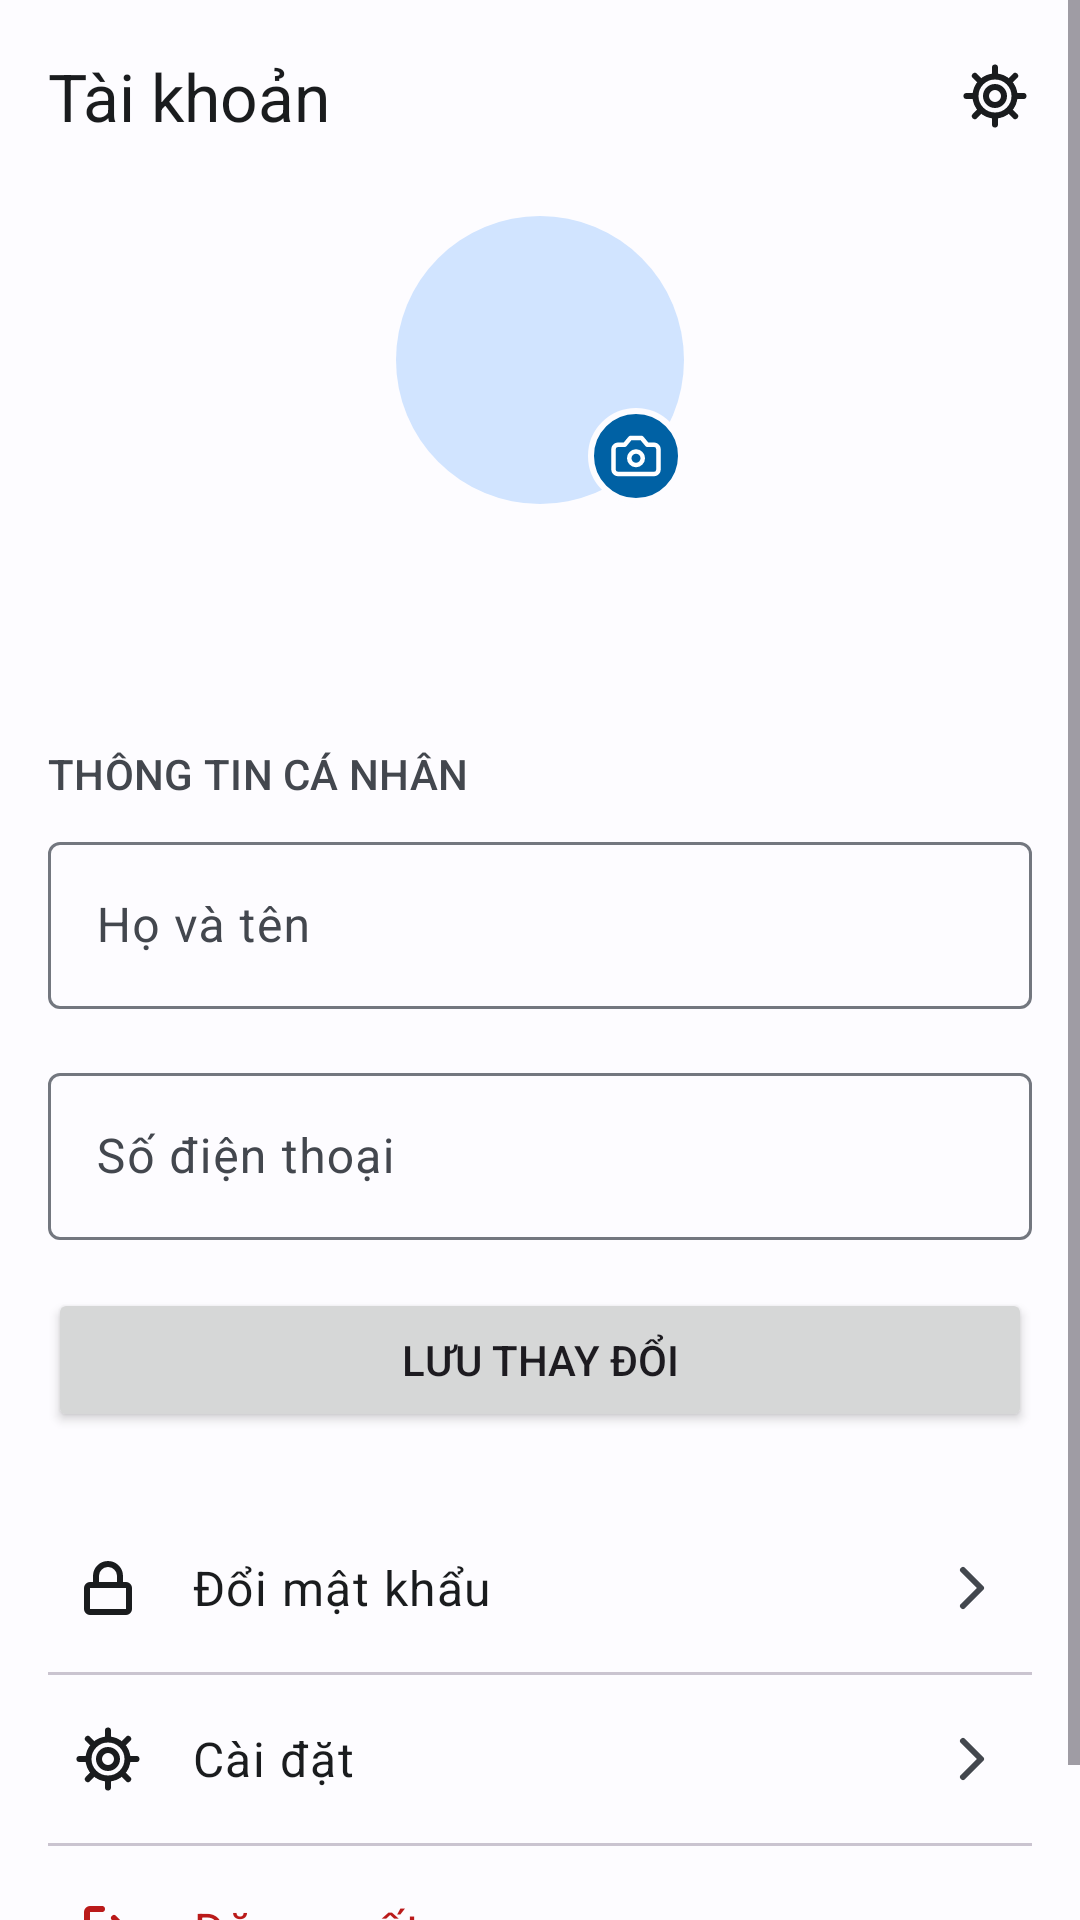

Where to tap for icons on this 1080px x 1920px app screen, as point (x, y):
chevron right: point (972, 1588), point (972, 1759)
Cài đặt: point (995, 96)
lock: point (108, 1588)
settings: point (108, 1759)
Đổi ảnh đại diện: point (636, 456)
